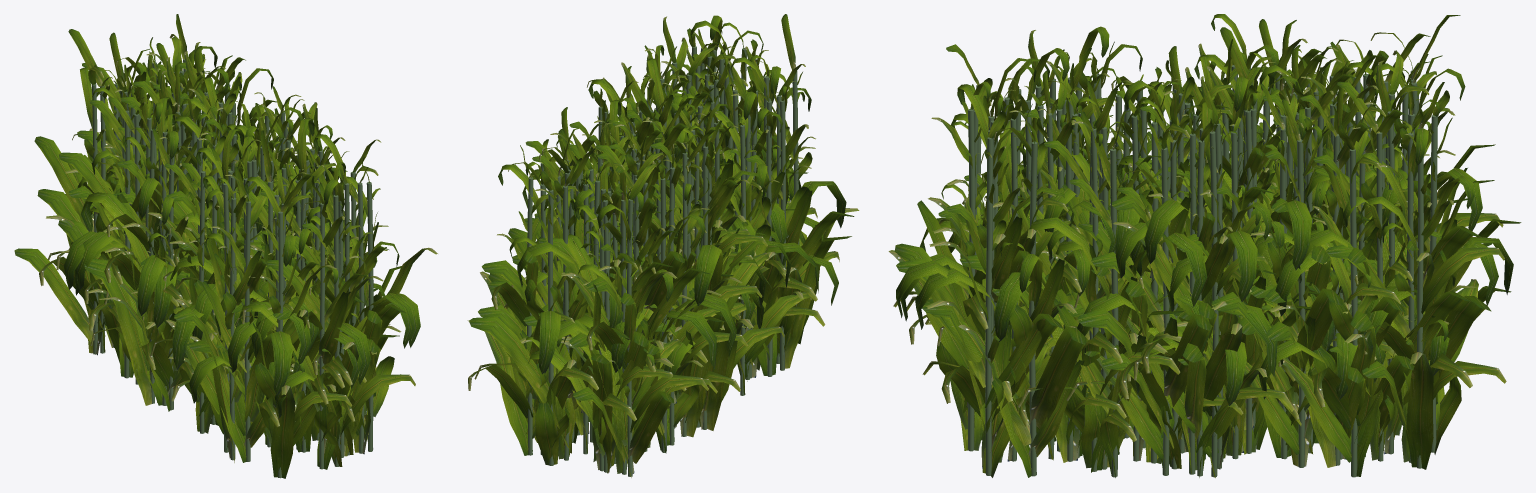
File: milharal4x10_denso.fbx
3 renders of one model, left to right at view 1: azimuth 30°, elevation 25°; view 2: azimuth 150°, elevation 25°; view 3: azimuth 270°, elevation 25°, orthographic. The views are drawn at different scales.
Parts seen in each view (by area): view 1: Plantacao2; view 2: Plantacao2; view 3: Plantacao2.
Part boxes in pixels (bbox=[...]): Plantacao2: bbox=[14, 14, 437, 478]; Plantacao2: bbox=[467, 14, 859, 477]; Plantacao2: bbox=[888, 14, 1521, 477].
Size of the model in its own units: 868 by 1056 by 1500.
